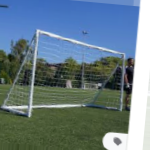goals: (1, 24, 126, 121)
